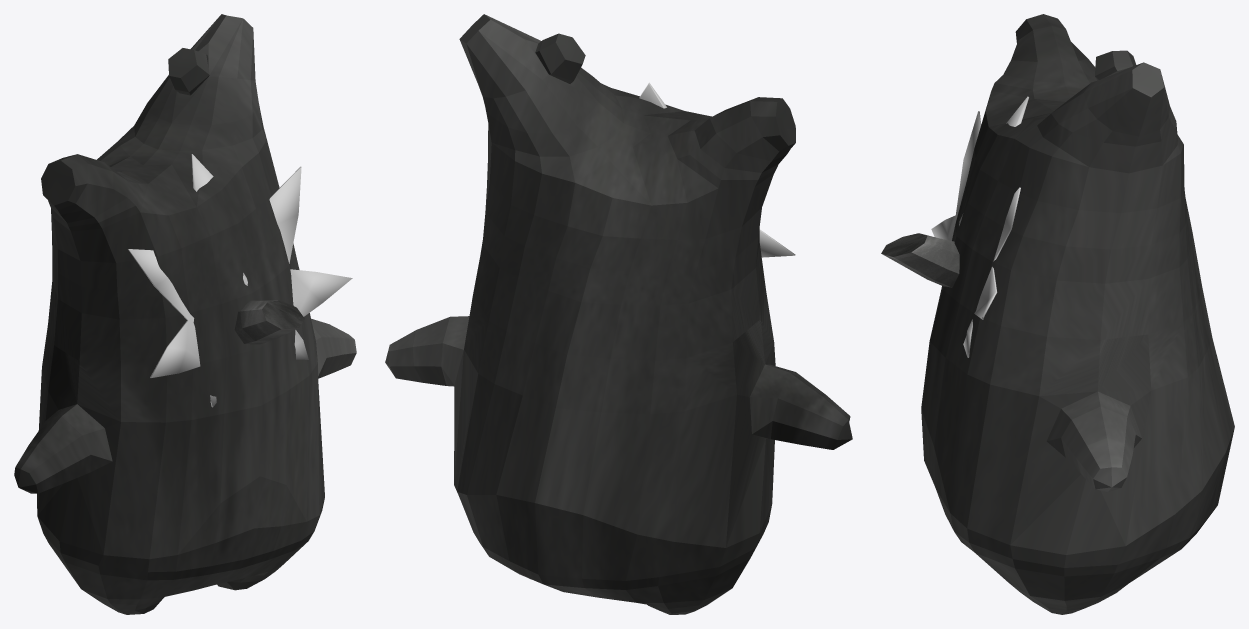
Rendered from frame_0044.obj.
3 renders of one model, left to right at view 1: azimuth 30°, elevation 25°; view 2: azimuth 150°, elevation 25°; view 3: azimuth 270°, elevation 25°, orthographic. The views are drawn at different scales.
Parts seen in each view (by area): view 1: korok, leaf.003_柱体.013, nose.003_柱体.011; view 2: korok, leaf.003_柱体.013; view 3: korok, nose.003_柱体.011, leaf.003_柱体.013.
Boxes of the visible parts, bbox=[...] form: korok: bbox=[14, 14, 356, 614]; leaf.003_柱体.013: bbox=[128, 154, 352, 407]; nose.003_柱体.011: bbox=[234, 300, 304, 344]; korok: bbox=[385, 14, 852, 614]; leaf.003_柱体.013: bbox=[639, 82, 795, 257]; korok: bbox=[921, 14, 1234, 614]; nose.003_柱体.011: bbox=[881, 233, 959, 287]; leaf.003_柱体.013: bbox=[931, 96, 1028, 357].
Bounding box in the file's own units: 1.71 × 2.3 × 1.31.
